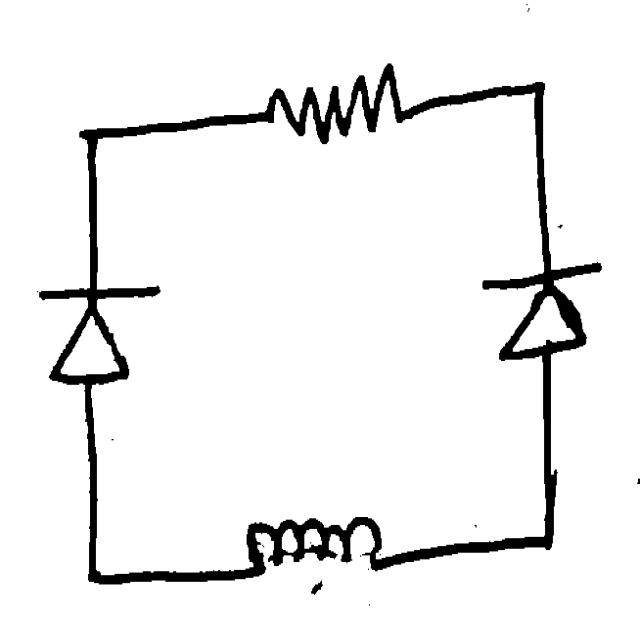diode: (30, 261, 166, 401), (472, 247, 608, 372), (234, 498, 392, 589)
resistor: (246, 55, 414, 159)
